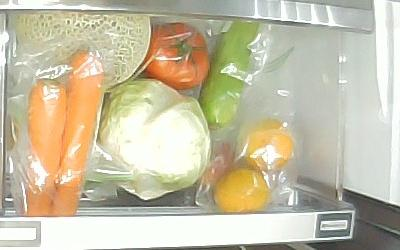cabbage: (96, 79, 211, 200)
carrot_vinyl: (51, 50, 104, 216), (25, 79, 68, 217)
melon: (13, 12, 152, 91)
prune_vinyl: (201, 142, 235, 186)
tangerine_vinyl: (212, 167, 271, 213), (243, 119, 293, 172)
tomato_vinyl: (145, 22, 210, 91)
zucchini_vinyl: (199, 22, 261, 130)
